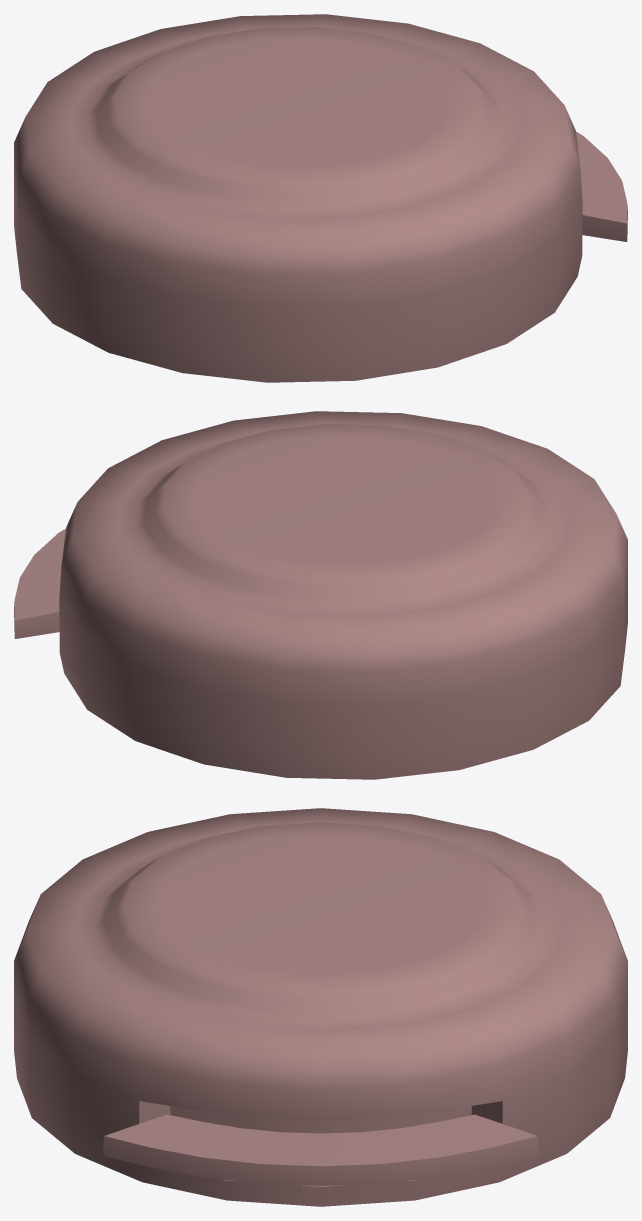
The model's file is vacuum_cleaner_low (1).fbx.
3 views of the same model, one above another, from view 1: azimuth 30°, elevation 25°; view 2: azimuth 150°, elevation 25°; view 3: azimuth 270°, elevation 25° (orthographic). The views are drawn at different scales.
Parts seen in each view (by area): view 1: circle_low, plain_low; view 2: circle_low, plain_low; view 3: circle_low, plain_low.
Part boxes in pixels (x1,y1,x2,y2): circle_low: [14, 14, 582, 382]; plain_low: [576, 131, 627, 241]; circle_low: [59, 411, 627, 779]; plain_low: [14, 528, 65, 638]; circle_low: [14, 808, 627, 1206]; plain_low: [103, 1114, 538, 1185].
Size of the model in its own units: 2.13 by 0.6143 by 1.97.
